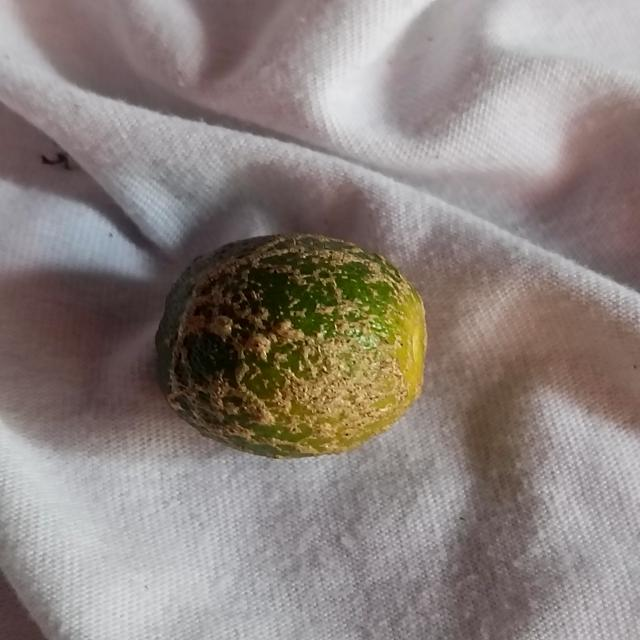scab: (151, 235, 437, 458)
